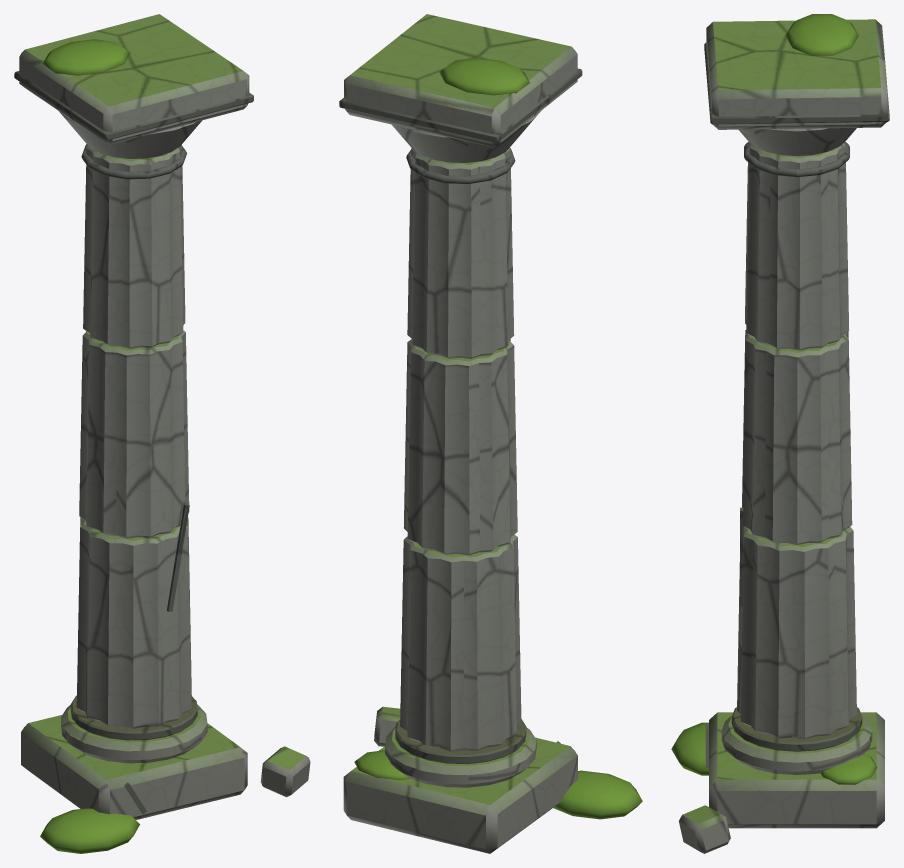
The model's file is stone_column_standing.glb.
3 views of the same model, side by side, from view 1: azimuth 30°, elevation 25°; view 2: azimuth 150°, elevation 25°; view 3: azimuth 270°, elevation 25° (orthographic). The views are drawn at different scales.
Visible parts, largest first — view 1: stone_column_standing; view 2: stone_column_standing; view 3: stone_column_standing.
Part boxes in pixels (x1=…): stone_column_standing: x1=14, y1=14, x2=310, y2=853; stone_column_standing: x1=339, y1=14, x2=642, y2=853; stone_column_standing: x1=671, y1=14, x2=889, y2=853.
Bounding box in the file's own units: 1.81 × 5.03 × 1.3.
Materials: 3 (3 with a texture image).
